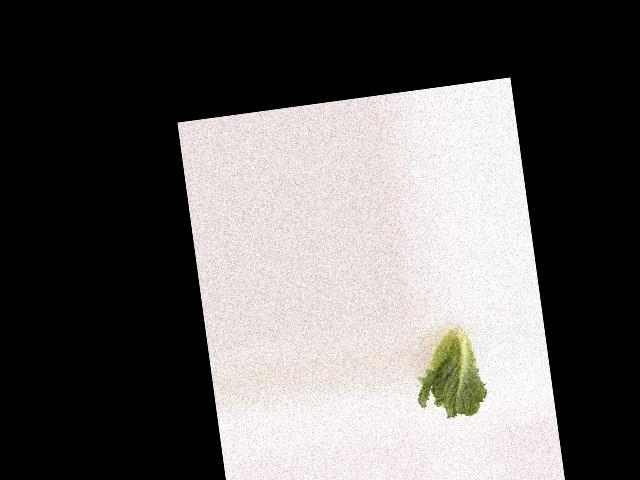lettuce: (407, 312, 495, 438)
